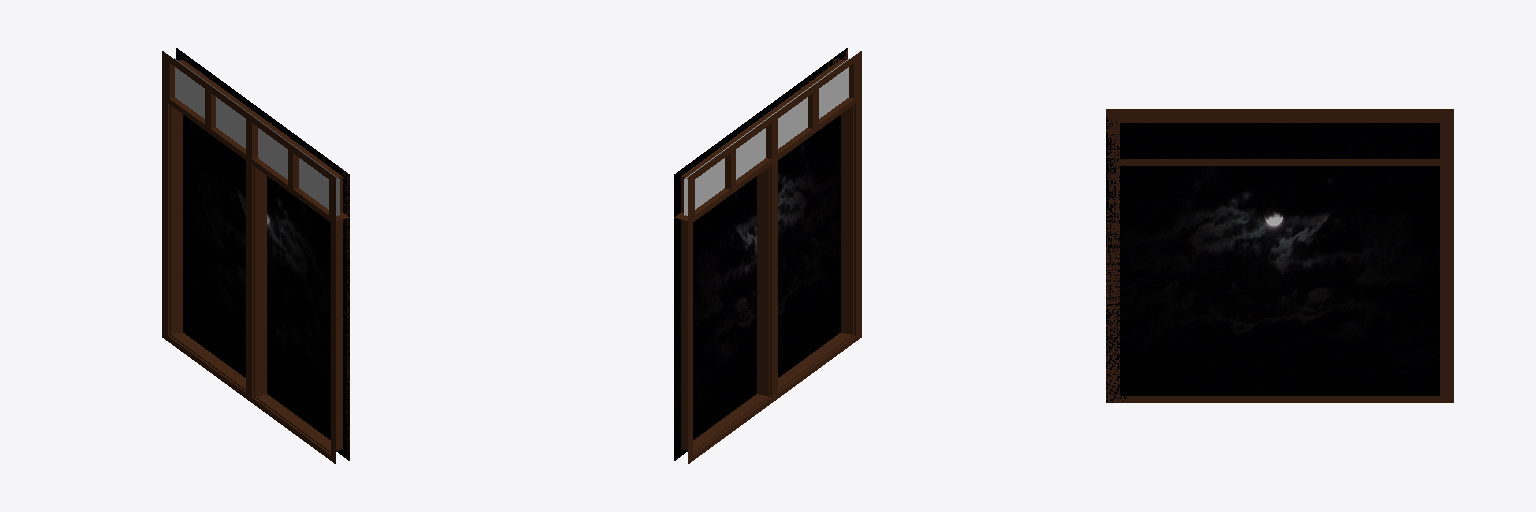
3 views of the same model, side by side, from view 1: azimuth 30°, elevation 25°; view 2: azimuth 150°, elevation 25°; view 3: azimuth 270°, elevation 25° (orthographic).
Size of the model in its own units: 0.1 by 2 by 2.2.
3 materials, 1 textured.